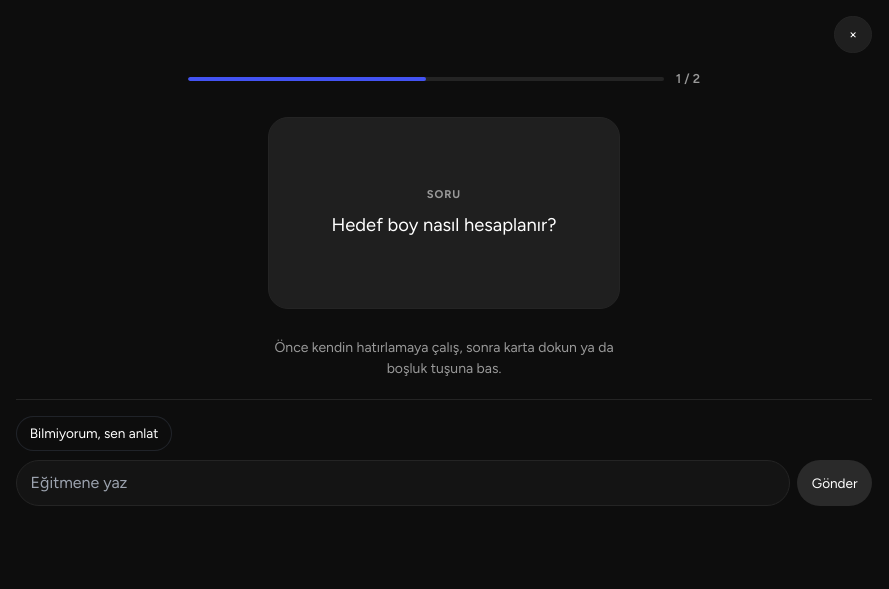
it: exam-prep flashcards — reveal before self-assessment › shows the answer and the self-assessment after flipping
Expected: the text "Hedef boy nasıl hesaplanır?" is shown, [332,214,556,236]
Click the button with aria-label "Kartı çevir, cevabı göster" at (444, 213), box [268,117,620,309]
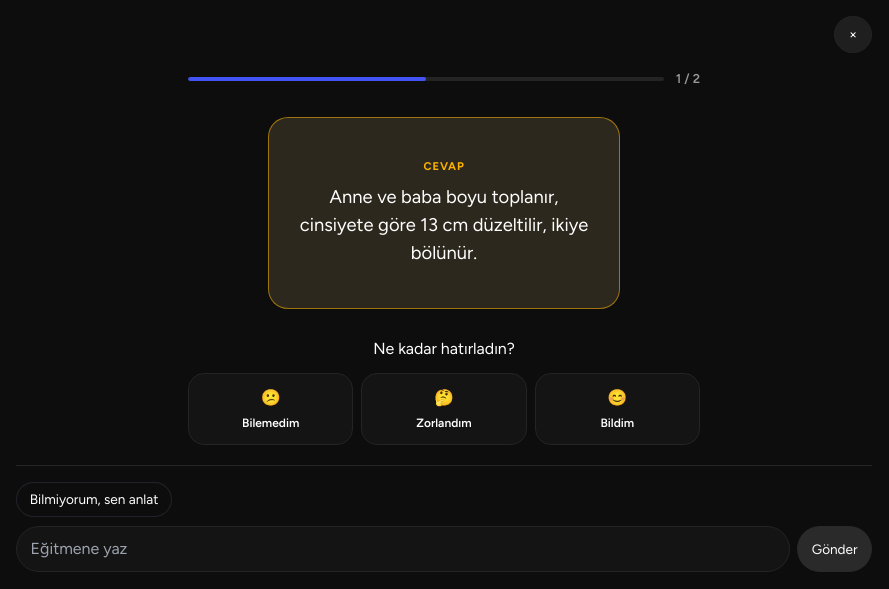
Expected: the text "13 cm düzeltilir" is shown, [300,186,588,264]
Expected: the text "Cevap" is shown, [423,158,464,175]
Expected: the button "😊 Bildim" is shown, [535,373,700,445]
